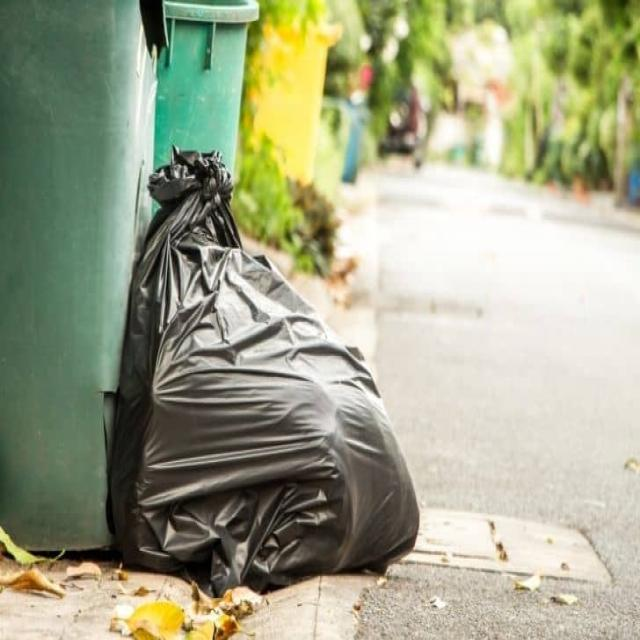Vinyl: (87, 133, 437, 597)
